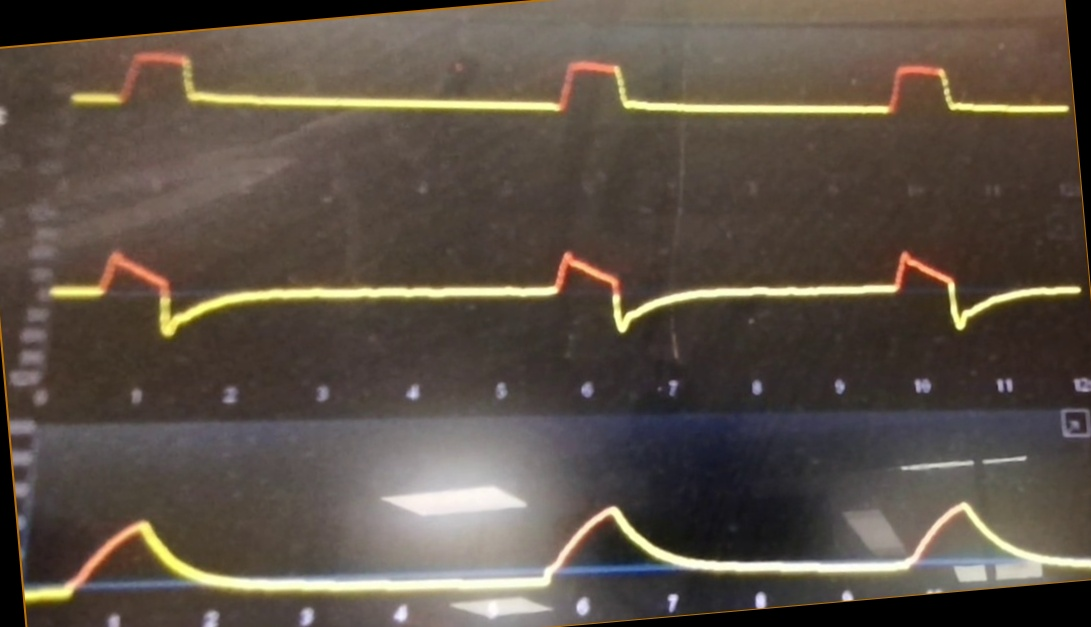Normal Flow: (51, 218, 1079, 349)
Normal Volume: (30, 467, 1089, 600)
